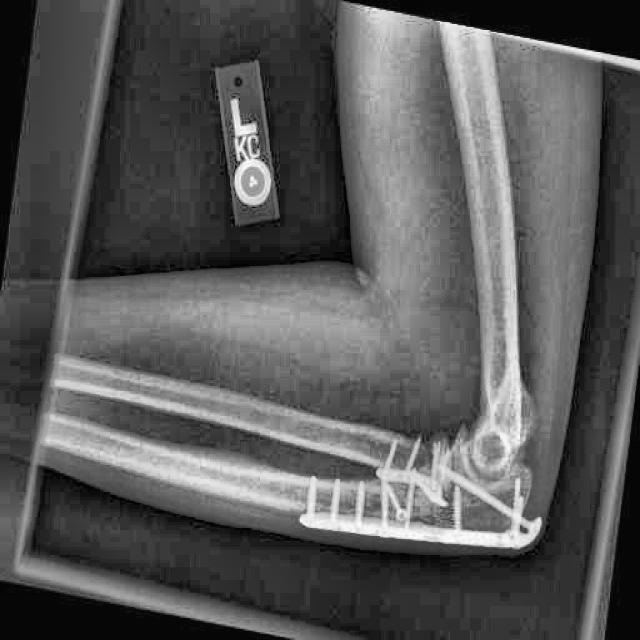elbow positive: (442, 408, 492, 468)
